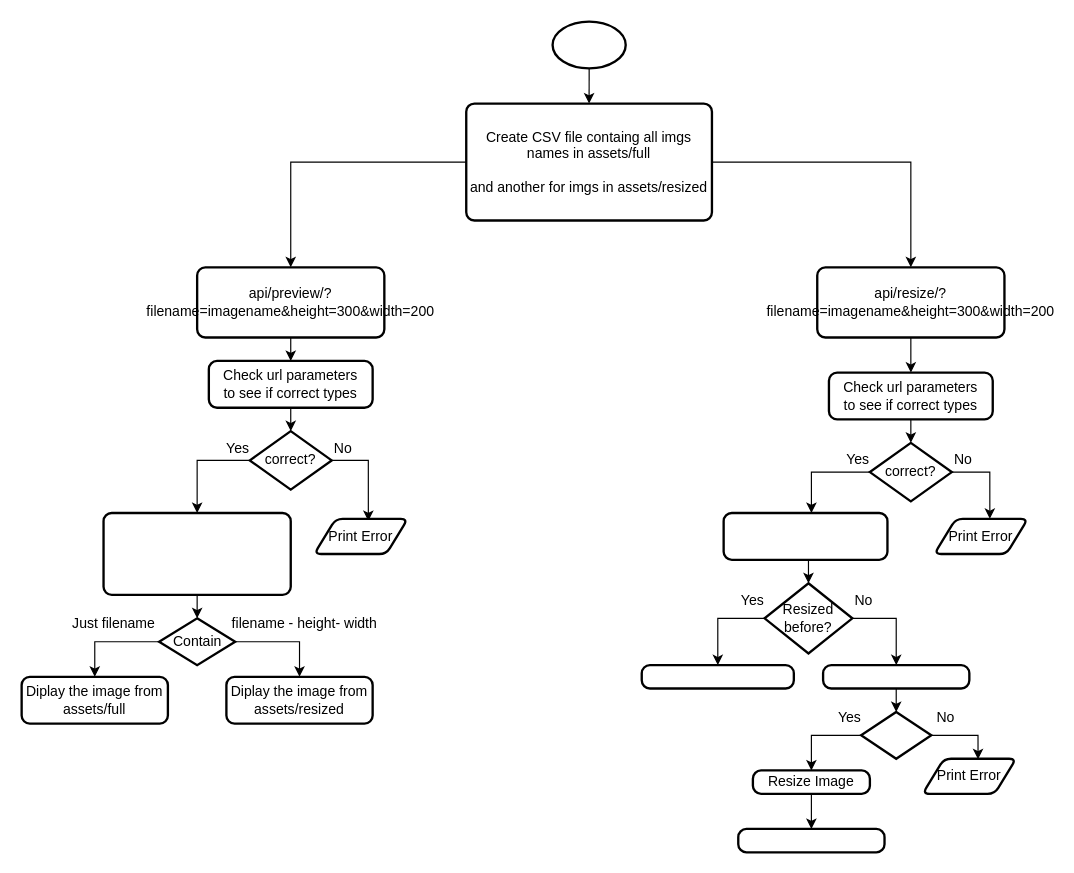
The diagram is 1074 pixels wide and 873 high, and some of its shapes have lost their labels. The centre of each missing label's shape, as x and y in pixels:
Check if image exists: point 895,676
Check if Image has been resized before: point 805,535
Check if the parameters contain Just filename or filename and height and width: point 196,553
Diplay resized image: point 811,840
Exists: point 895,734
Show resized image: point 717,676
start server: point 588,44
